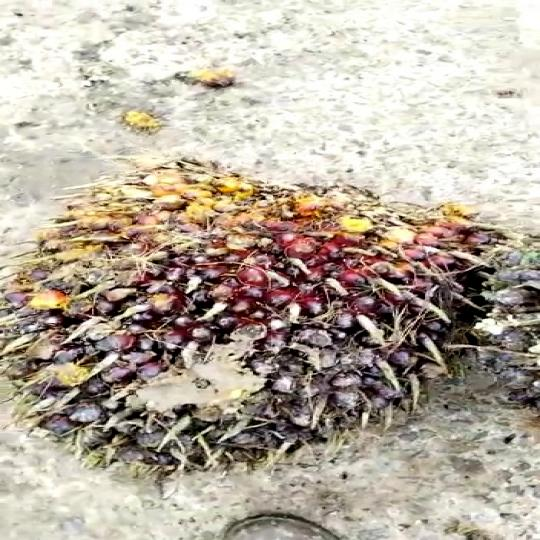kurang masak: (19, 152, 488, 508)
